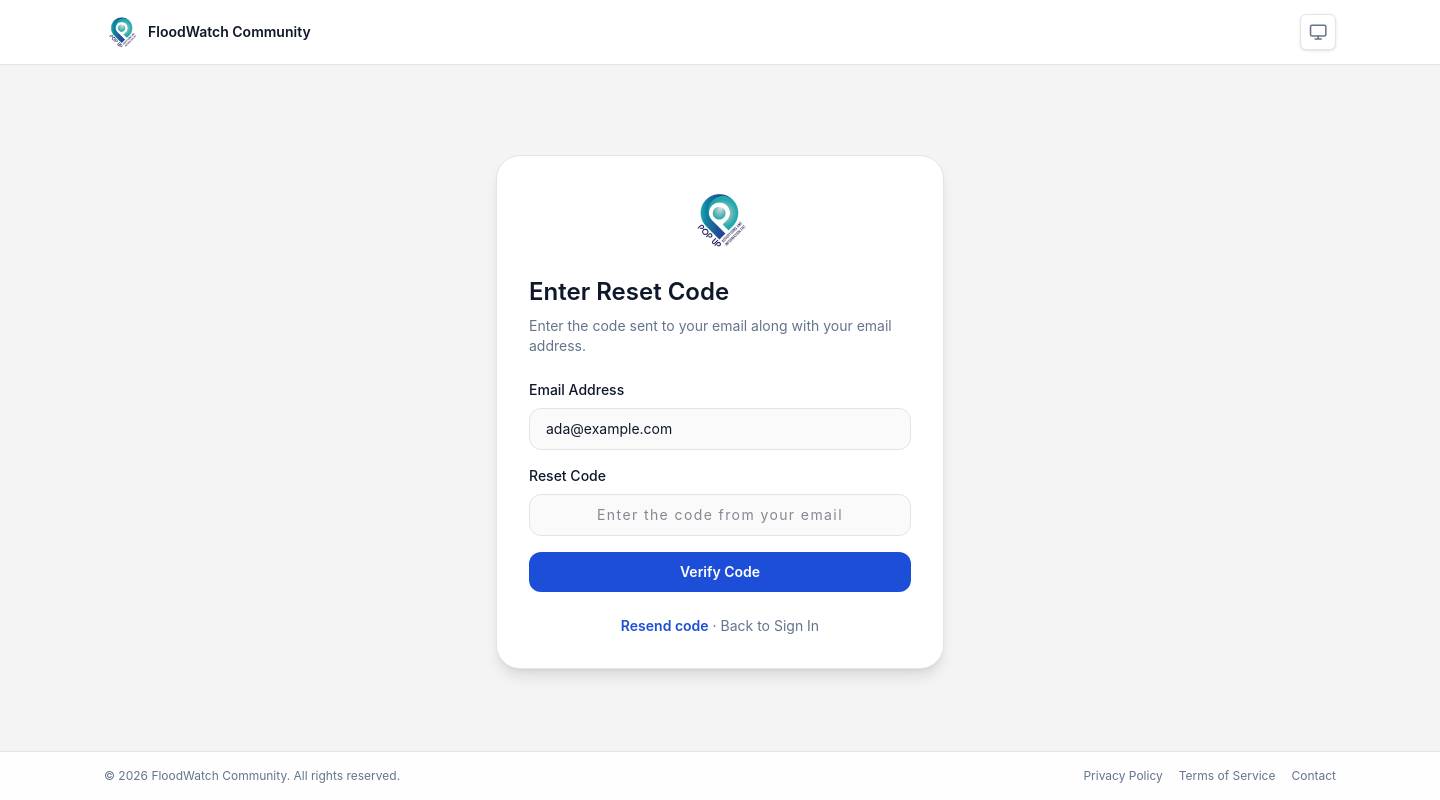
it: Community · reset password › rejects mismatched new passwords
In the field with test id "reset-code": coordinates (720, 515) [529,494,911,536], type "123456"
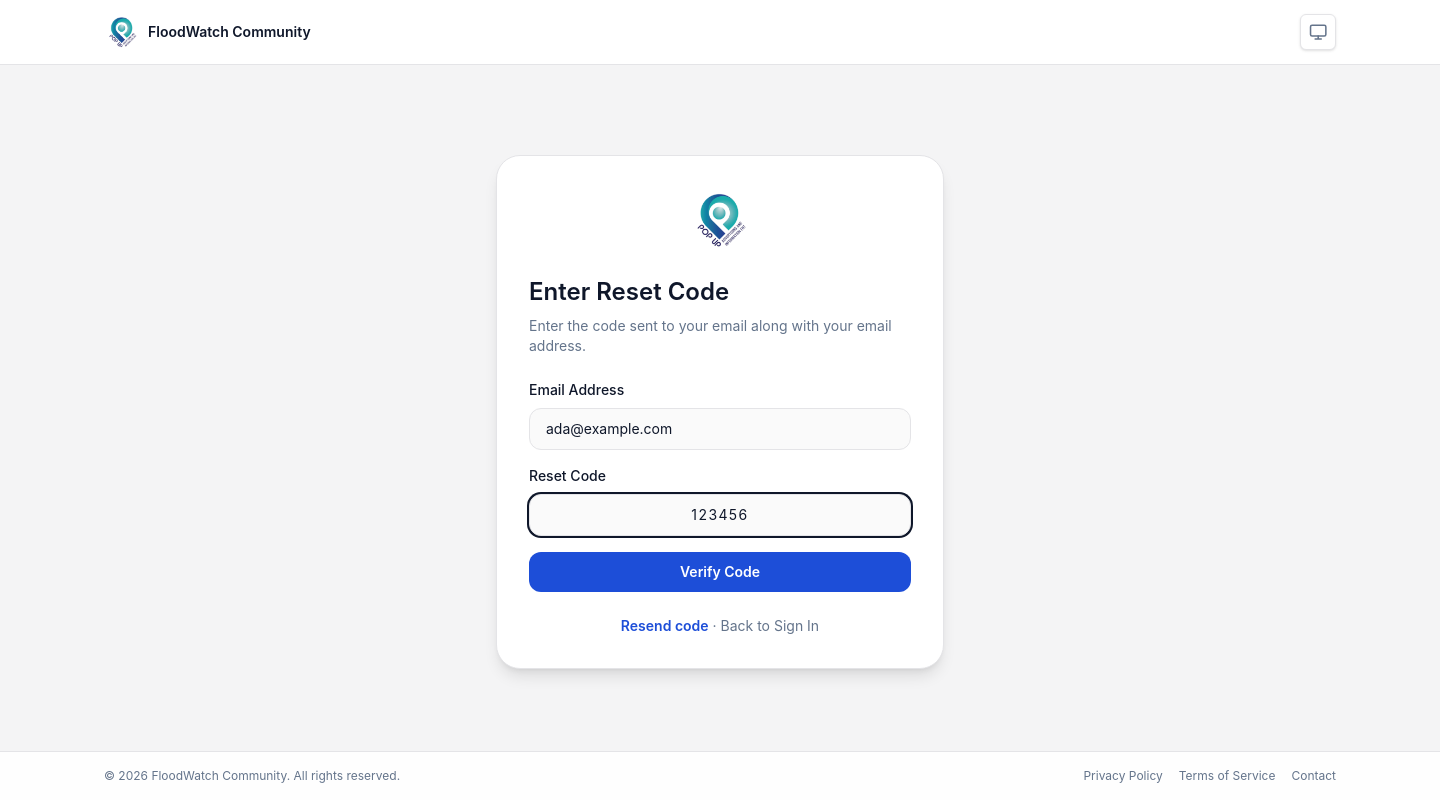
Click the button with test id "reset-verify-submit": coordinates (720, 572) [529,552,911,592]
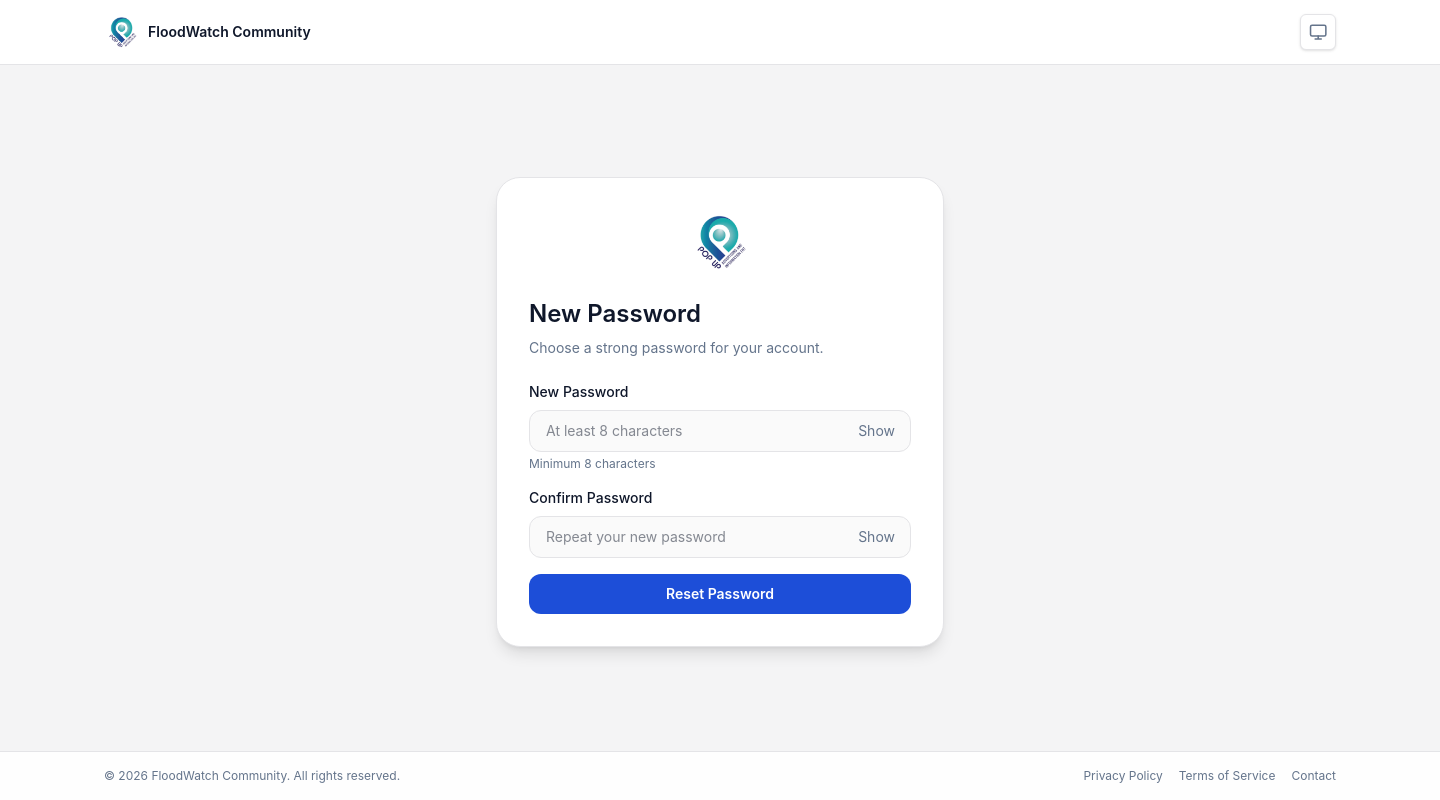
In the password field with test id "reset-new-password": coordinates (720, 431) [529,410,911,452], type "Password@123"
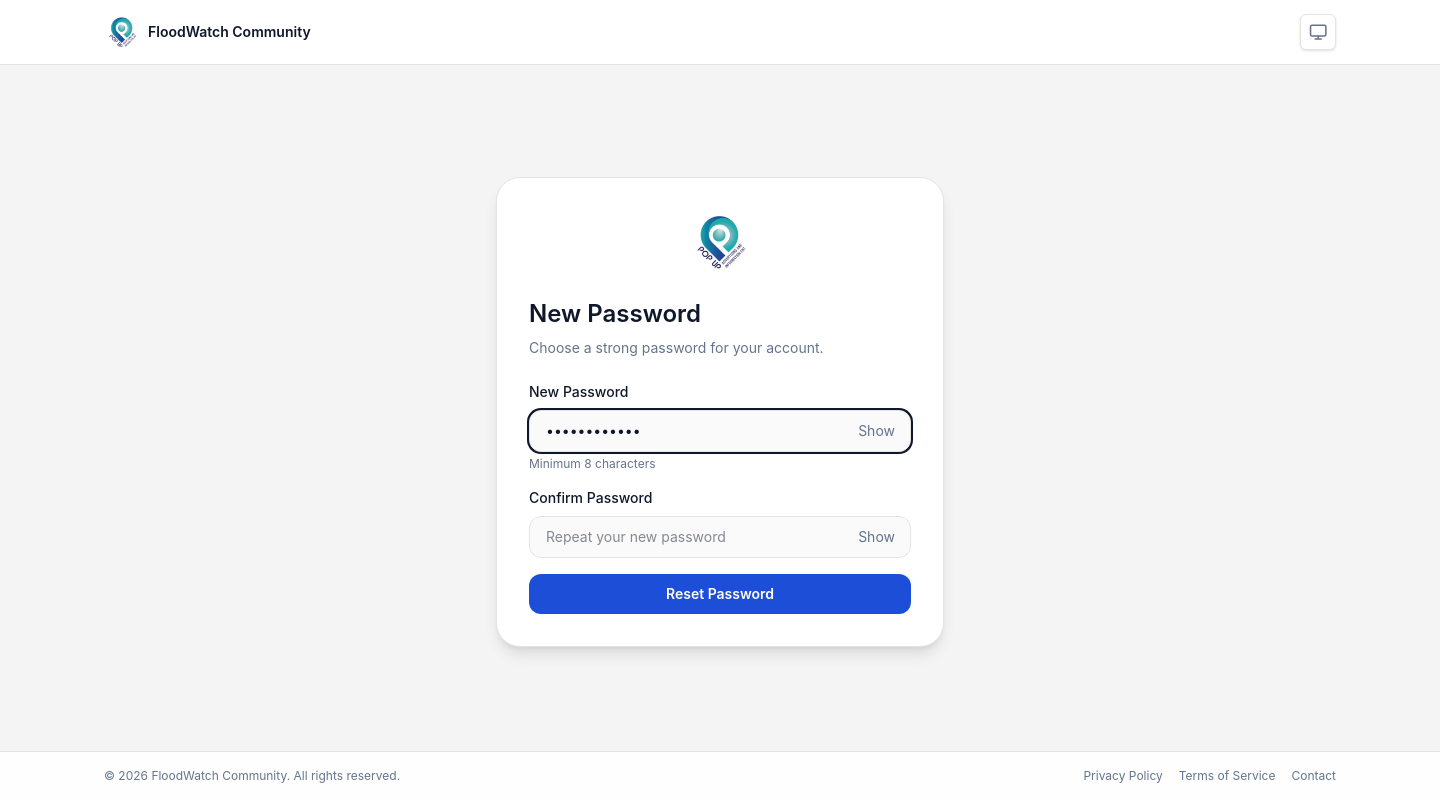
In the password field with test id "reset-confirm-password": coordinates (720, 537) [529,516,911,558], type "Different@123"
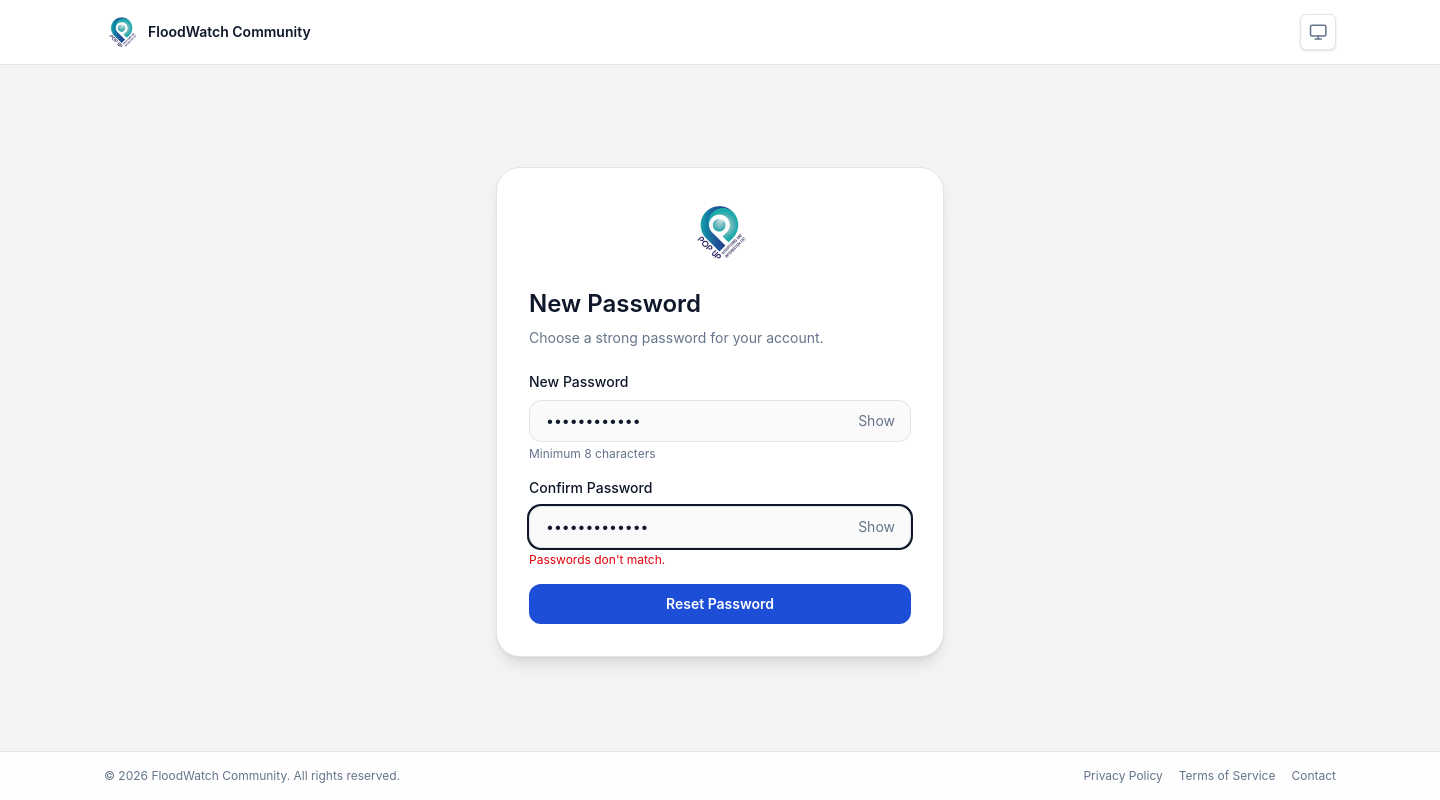
Click the button with test id "reset-submit": coordinates (720, 604) [529,584,911,624]
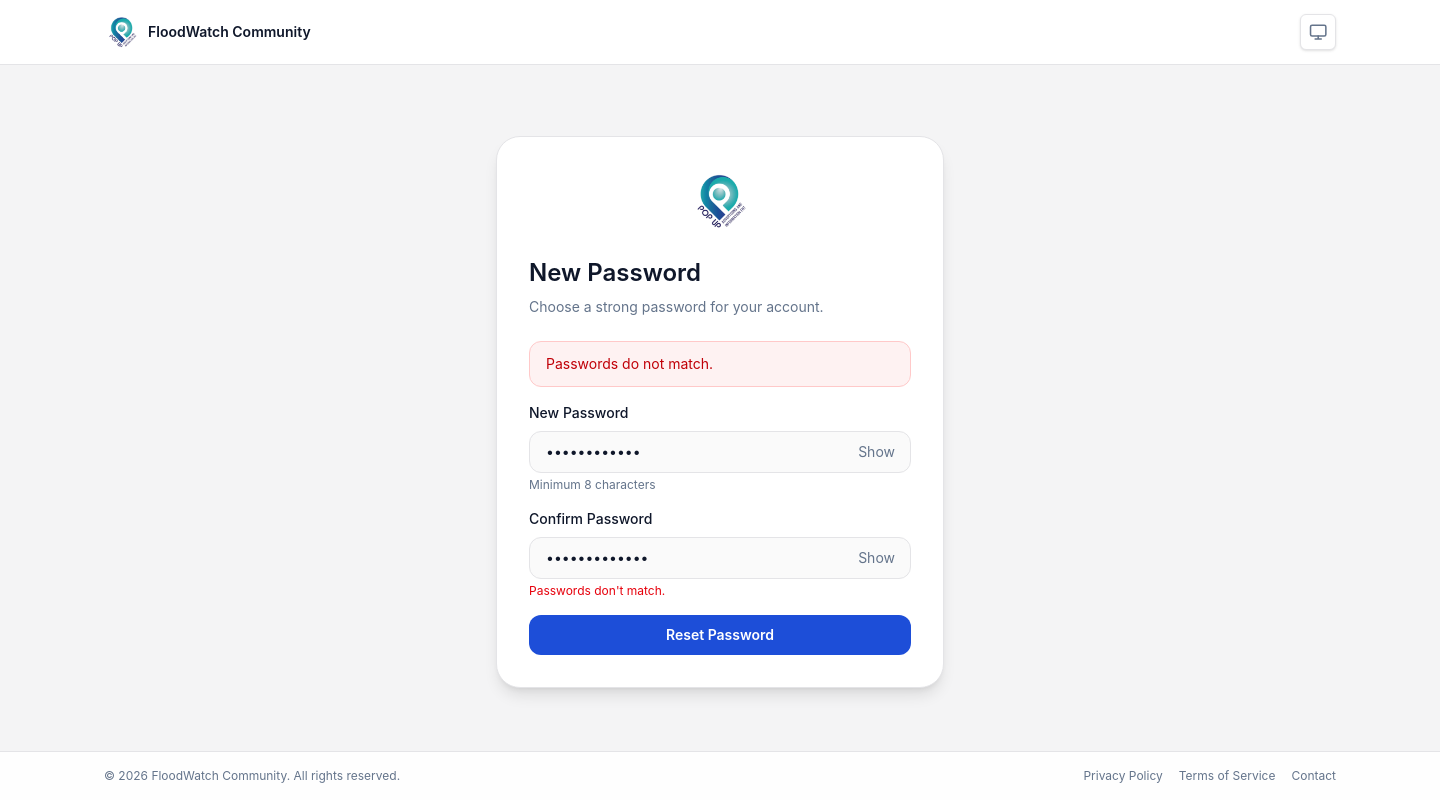
Expected: the text "Passwords do not match" is shown, [546,355,713,372]
